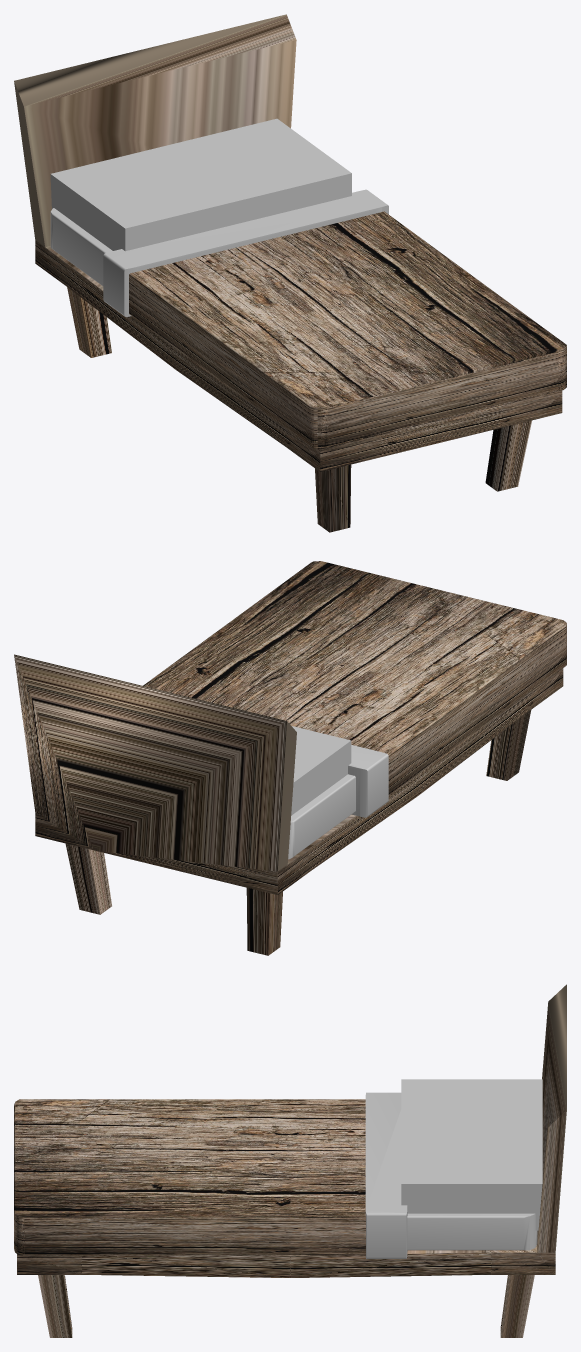
File: bed.fbx
3 renders of one model, top to bottom at view 1: azimuth 30°, elevation 25°; view 2: azimuth 150°, elevation 25°; view 3: azimuth 270°, elevation 25°, orthographic. The views are drawn at different scales.
Parts seen in each view (by area): view 1: duvet, bed, pillow, sheets, matress; view 2: bed, duvet, pillow, matress, sheets; view 3: duvet, bed, pillow, sheets, matress.
Part boxes in pixels (x1,y1,x2,y2): duvet: [129, 211, 566, 448]; bed: [14, 14, 562, 532]; pillow: [50, 118, 351, 251]; sheets: [103, 189, 388, 317]; matress: [50, 208, 112, 285]; bed: [14, 654, 563, 955]; duvet: [143, 561, 566, 795]; pillow: [291, 726, 351, 815]; matress: [288, 774, 355, 859]; sheets: [348, 745, 388, 817]; duvet: [14, 1099, 365, 1255]; bed: [17, 984, 566, 1337]; pillow: [401, 1079, 542, 1230]; sheets: [365, 1092, 407, 1258]; matress: [407, 1213, 537, 1250].
Bounding box in the file's own units: 145 × 133 × 269.
2 materials, 1 textured.
